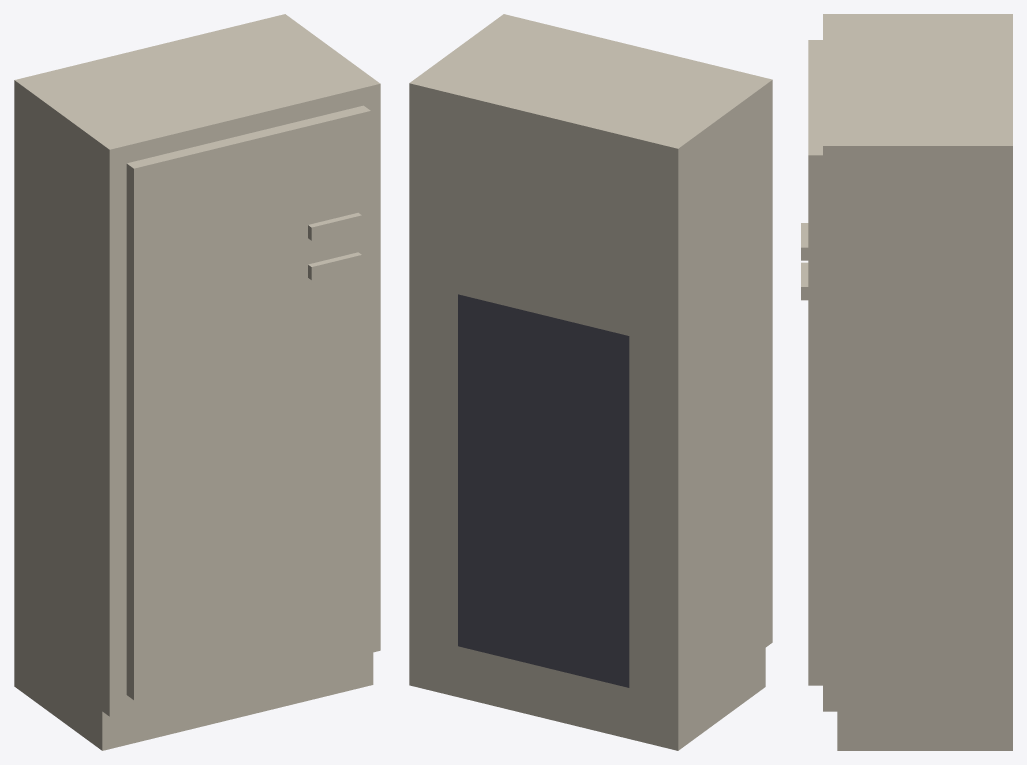
File: fridge.glb
3 renders of one model, left to right at view 1: azimuth 30°, elevation 25°; view 2: azimuth 150°, elevation 25°; view 3: azimuth 270°, elevation 25°, orthographic.
Visible parts, largest first — view 1: fridge; view 2: fridge; view 3: fridge.
Boxes of the visible parts, x1=… form: fridge: x1=14, y1=14, x2=380, y2=750; fridge: x1=409, y1=14, x2=772, y2=750; fridge: x1=801, y1=14, x2=1012, y2=750.
Size of the model in its own units: 0.43 by 0.92 by 0.2919.
